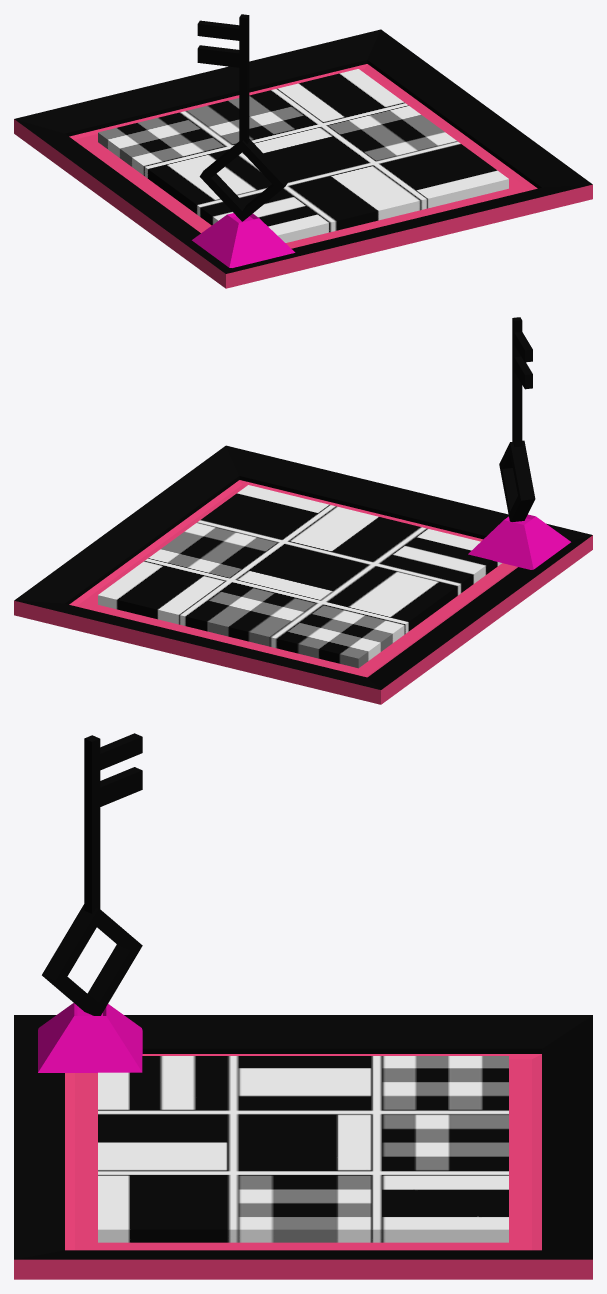
Rendered from whatev 1.fbx.
3 views of the same model, one above another, from view 1: azimuth 30°, elevation 25°; view 2: azimuth 150°, elevation 25°; view 3: azimuth 270°, elevation 25° (orthographic). The views are drawn at different scales.
Parts seen in each view (by area): view 1: Cube.001, Cube.002, Cube; view 2: Cube.001, Cube.002, Cube; view 3: Cube.001, Cube.002, Cube.
Part boxes in pixels (x1=…): Cube.001: x1=14, y1=29, x2=592, y2=288; Cube.002: x1=197, y1=14, x2=288, y2=221; Cube: x1=192, y1=213, x2=295, y2=267; Cube.001: x1=14, y1=445, x2=592, y2=704; Cube.002: x1=499, y1=317, x2=535, y2=521; Cube: x1=468, y1=514, x2=570, y2=569; Cube.001: x1=14, y1=1015, x2=592, y2=1279; Cube.002: x1=42, y1=733, x2=142, y2=1015; Cube: x1=38, y1=1003, x2=142, y2=1072.
Bounding box in the file's own units: 1388 × 870 × 1388.
